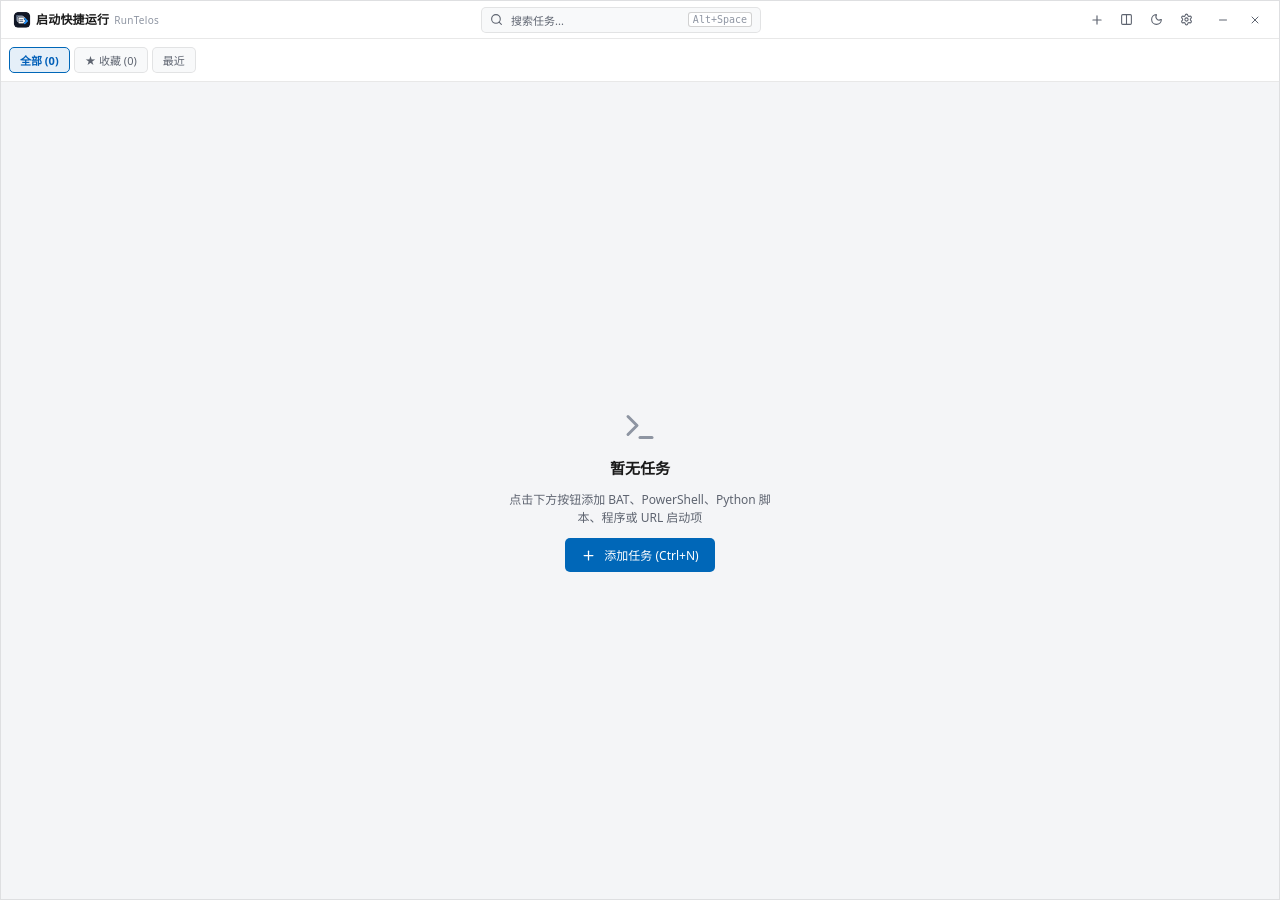
Scenario: App v2 › opens the independent launch history from the data settings tab
The image size is (1280, 900).
Expected: the text "启动快捷运行" is shown, [36,14,109,26]
Click the button titled "设置 (Ctrl+,)" at (1187, 20), box [1173,6,1201,34]
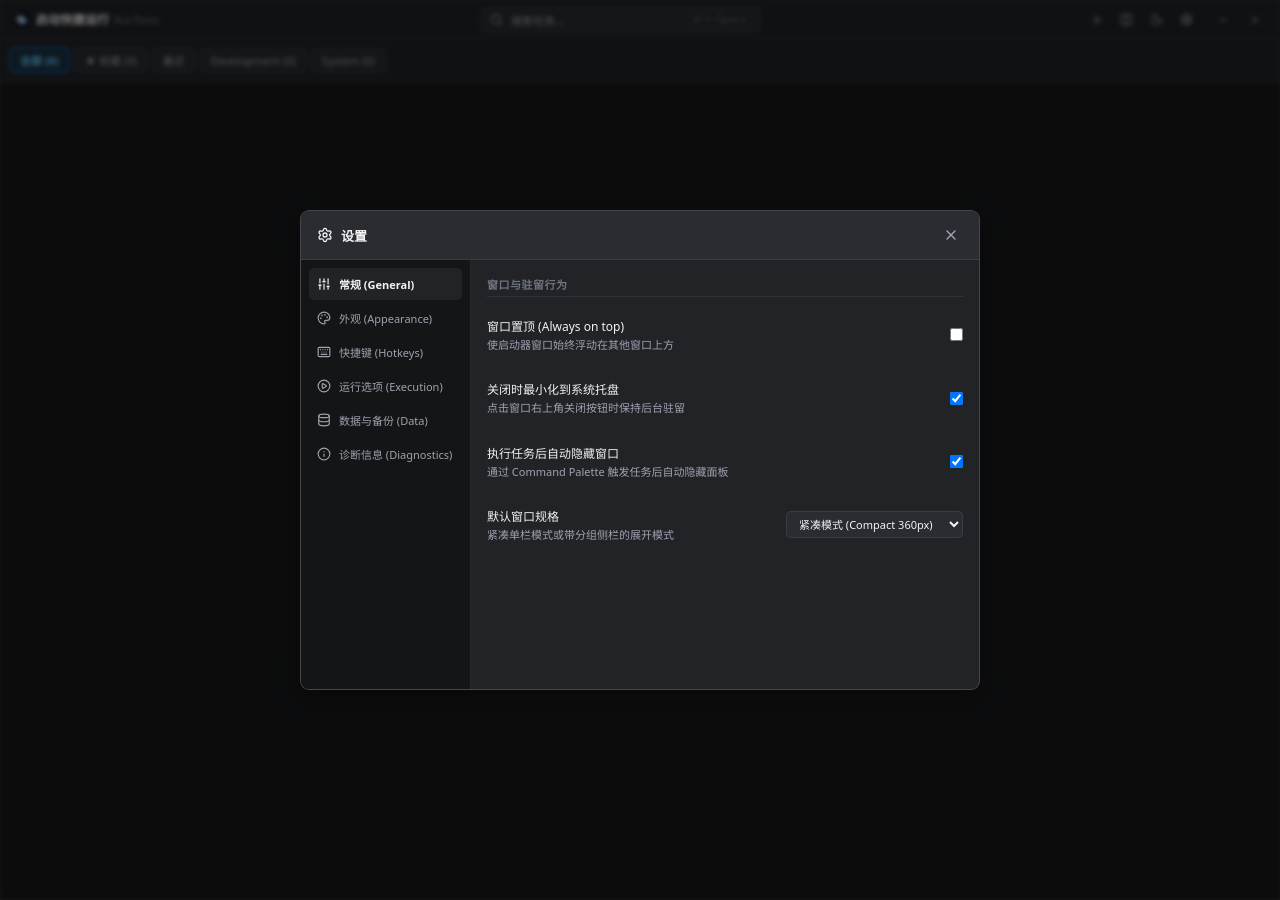
Click the button "数据与备份 (Data)" at (386, 420), box [309,404,462,436]
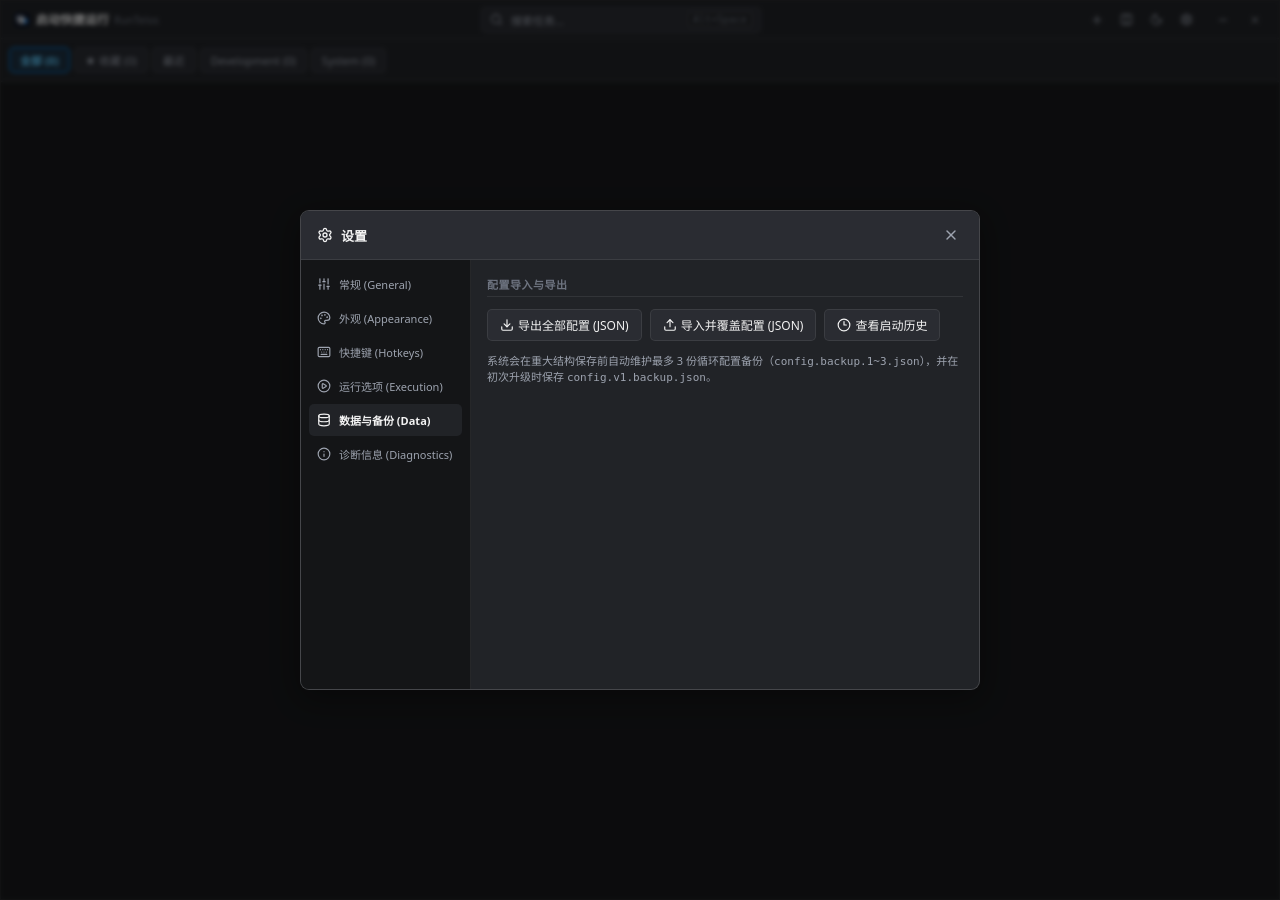
Click the button "查看启动历史" at (882, 325), box [824,309,940,341]
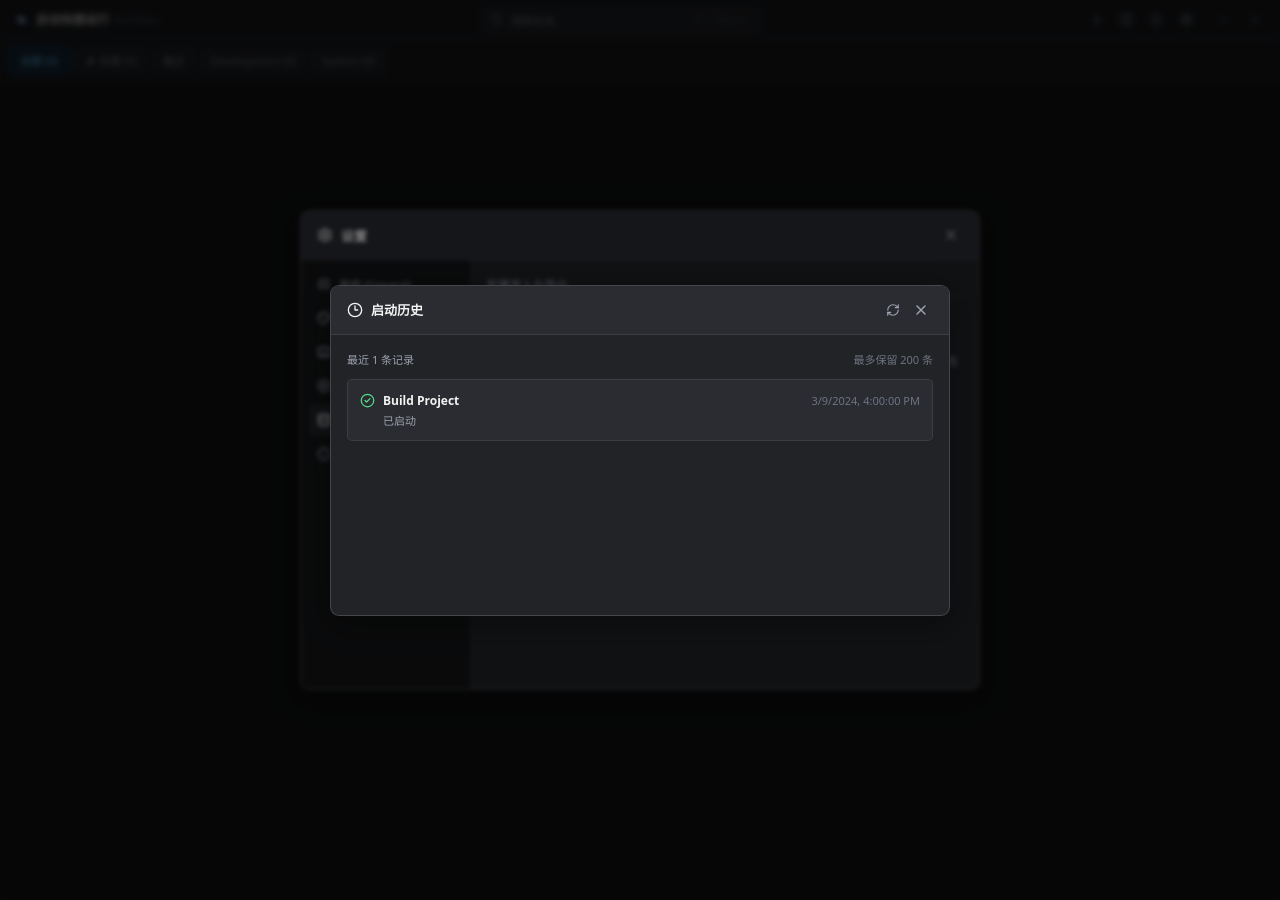
Result: the text "启动历史" is shown at [371,300,423,319]
Result: the text "Build Project" is shown at [383,392,459,408]
